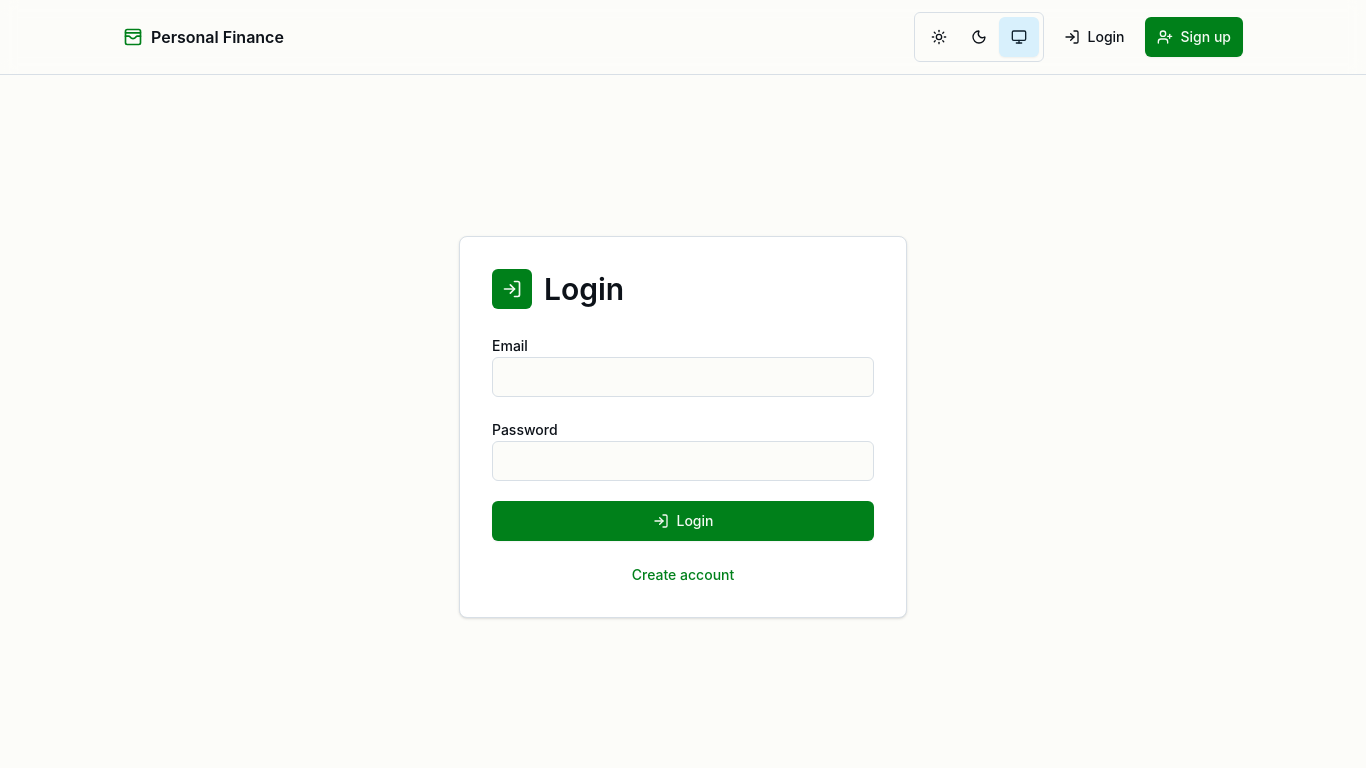
Test case: validates the login form before submitting
Expected: the heading "Login" is shown, [544, 271, 624, 307]
Click the button "Login": {"x": 683, "y": 521} [492, 501, 874, 541]
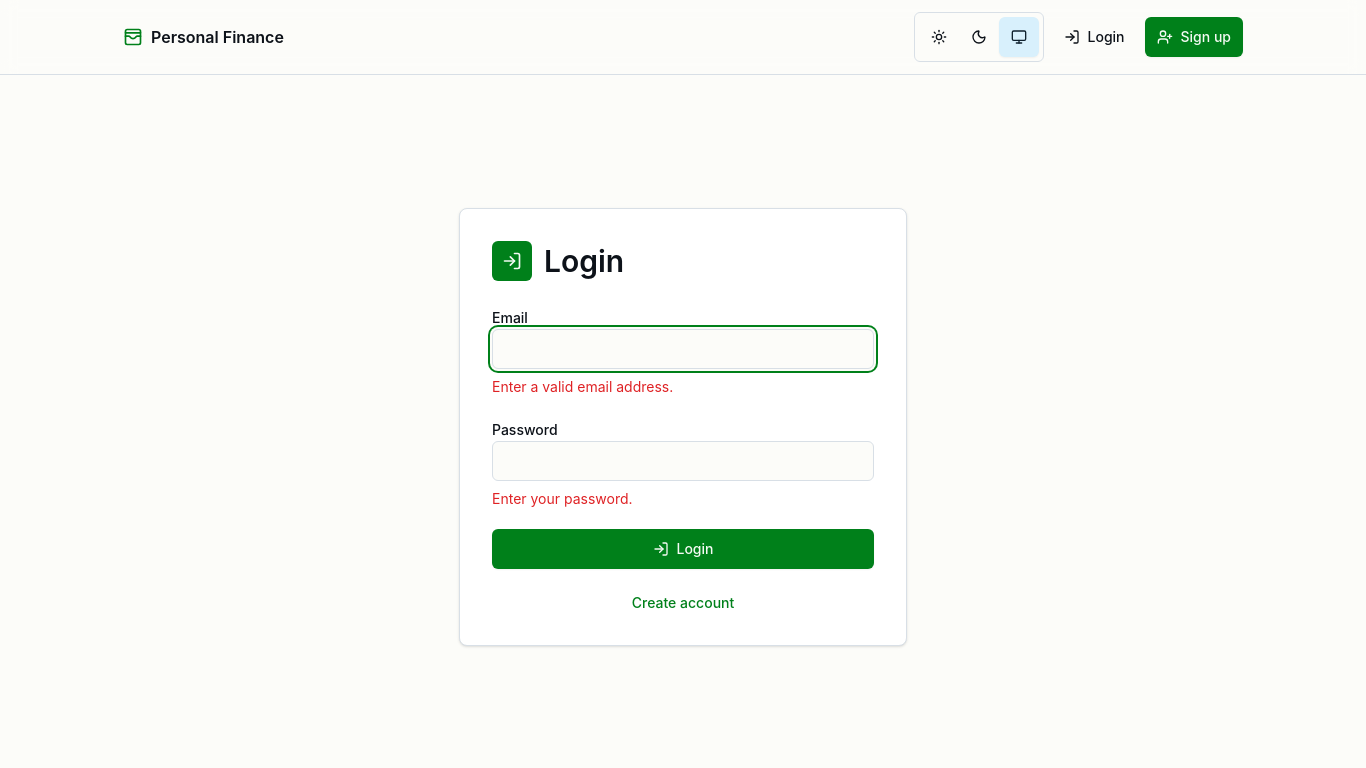
Expected: the text "Enter a valid email address." is shown, [492, 378, 673, 395]
Expected: the text "Enter your password." is shown, [492, 490, 633, 507]
